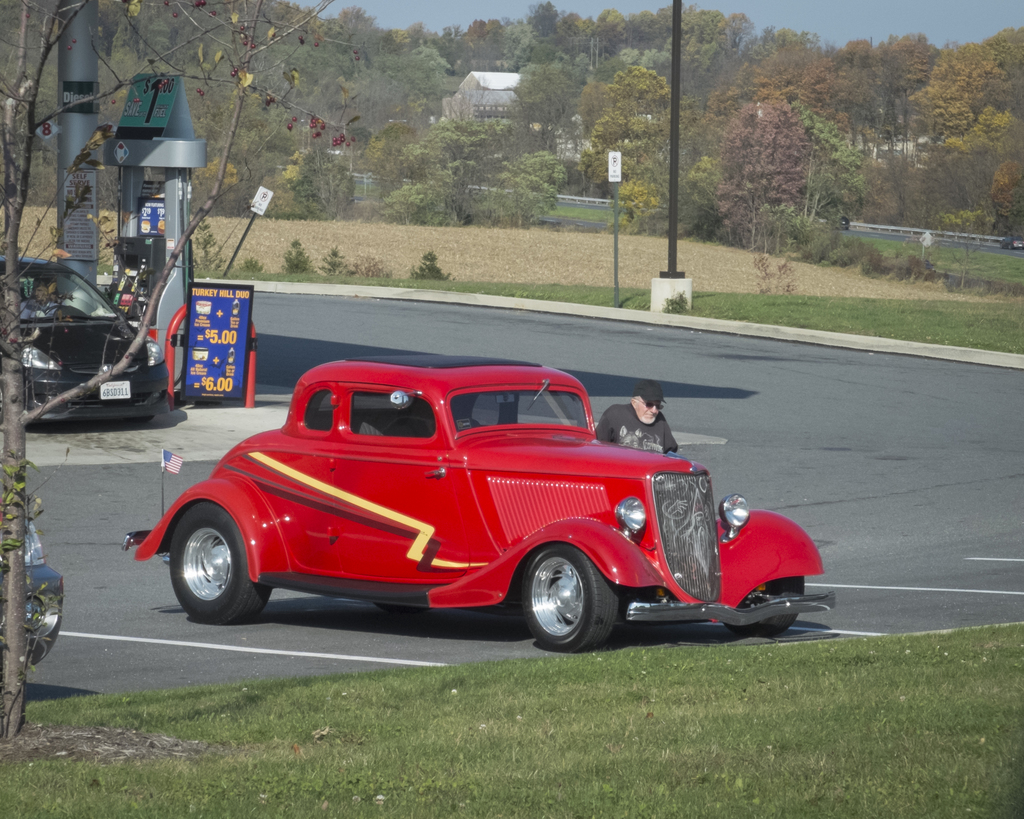Car: (130, 359, 821, 649), (0, 258, 168, 423), (26, 520, 60, 665)
